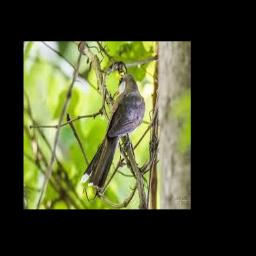Cuckoo: (80, 74, 146, 190)
